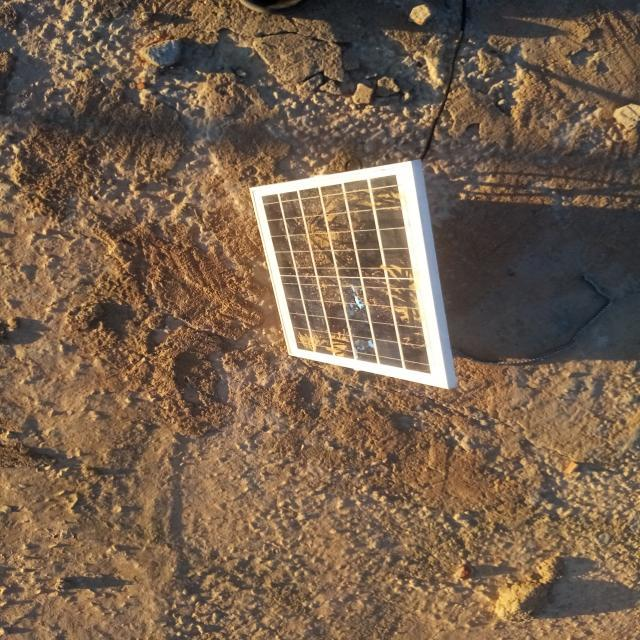faulty: (254, 162, 445, 388)
